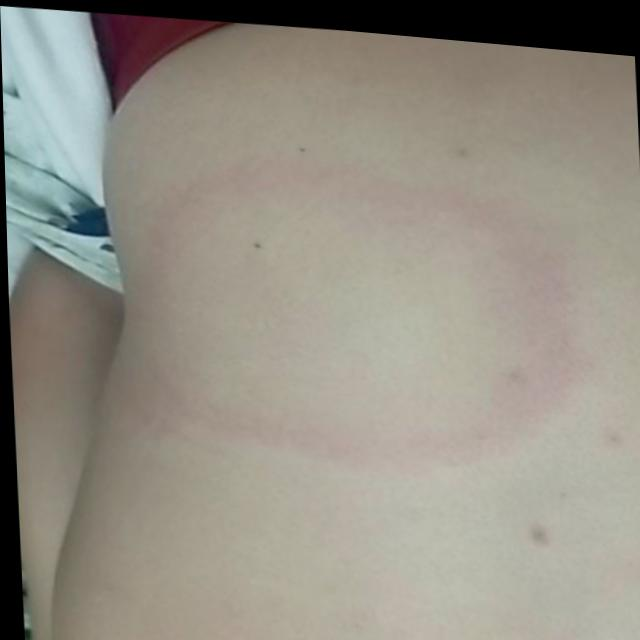Erythema chronicum migrans: (112, 119, 576, 480)
